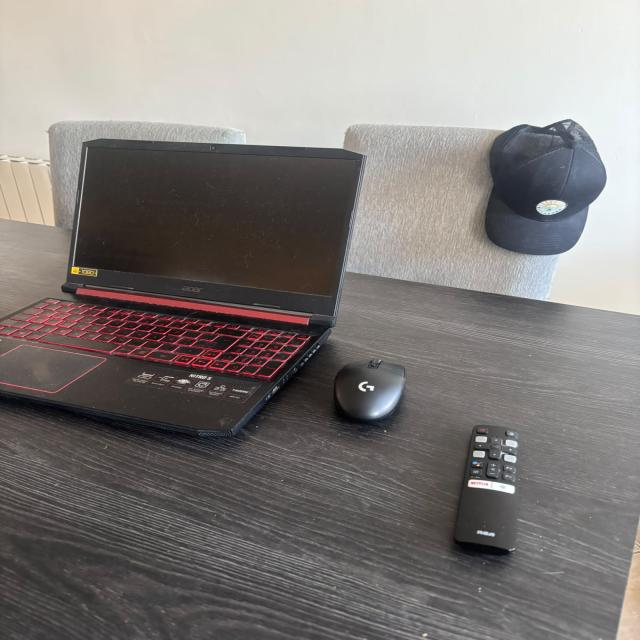Gorra: (469, 109, 620, 278)
